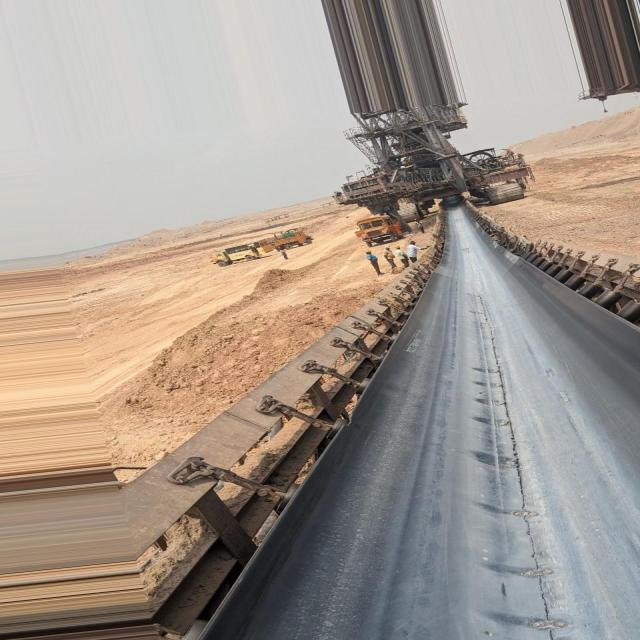Human: (406, 241, 429, 263), (366, 250, 384, 275), (384, 246, 397, 270), (395, 246, 409, 267)
Roller: (521, 252, 640, 328)
patch work: (462, 296, 571, 640)
